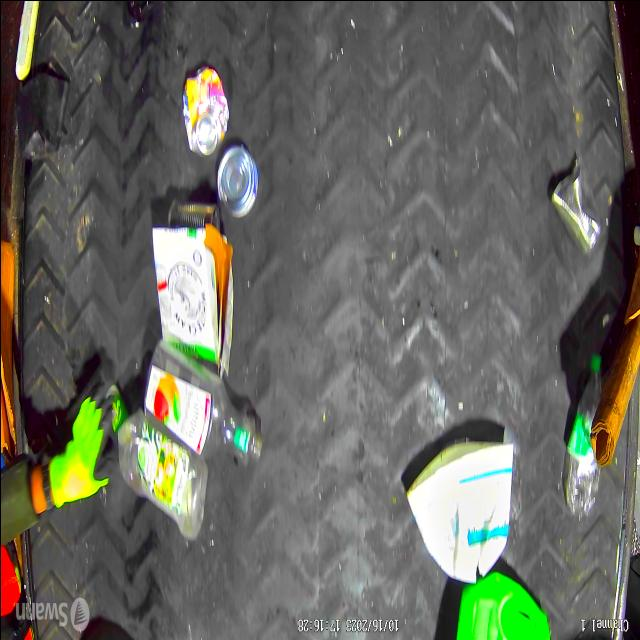can: (551, 164, 605, 260), (178, 65, 226, 151), (211, 142, 261, 218)
non_white_jug: (449, 572, 555, 640)
plastic_bottle: (145, 354, 265, 466), (106, 410, 205, 536), (558, 343, 602, 512)
